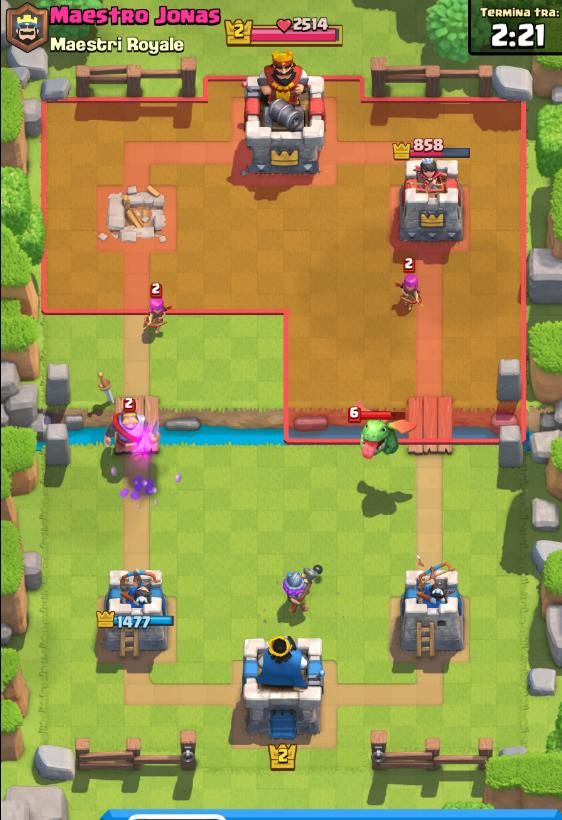ally_musketeer: (275, 563, 326, 624)
enemy_archer: (107, 392, 145, 440), (393, 260, 420, 306), (143, 287, 168, 328)
enemy_baby_dragon: (345, 406, 411, 459)
